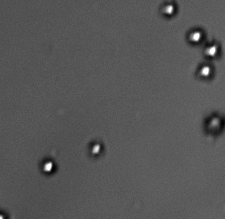Living Cell: (203, 111, 222, 136), (86, 138, 107, 158), (38, 154, 57, 176), (185, 25, 204, 45), (202, 39, 221, 59), (194, 61, 214, 79), (159, 1, 178, 18), (1, 206, 13, 219)
